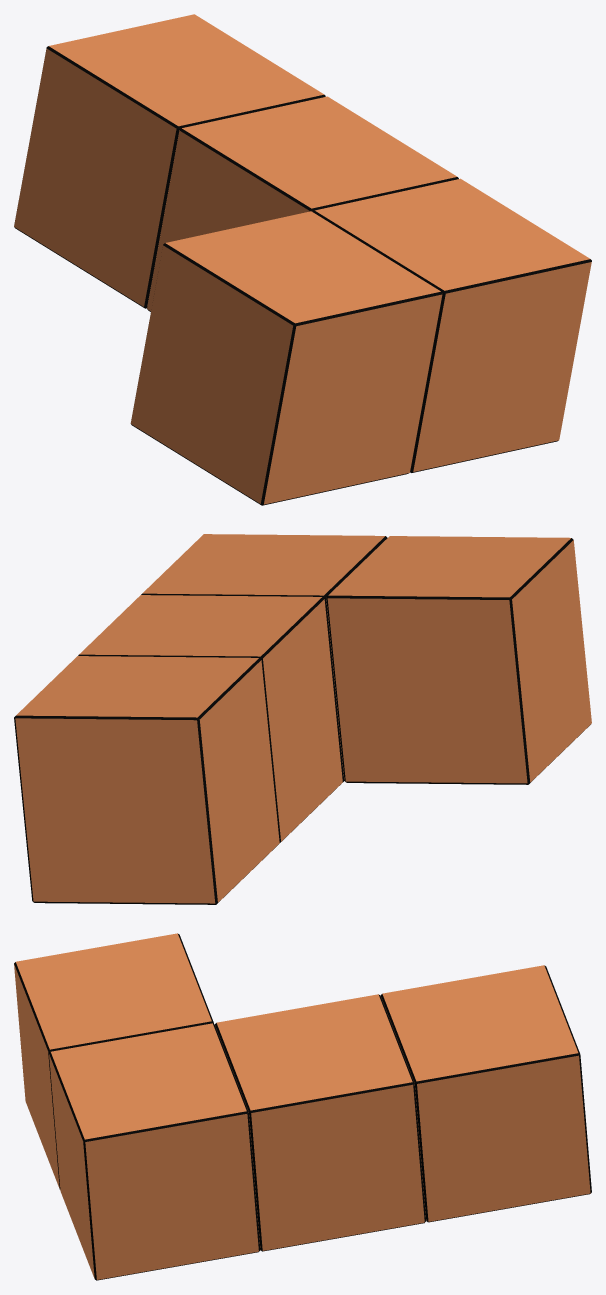
3 views of the same model, one above another, from view 1: azimuth 30°, elevation 25°; view 2: azimuth 150°, elevation 25°; view 3: azimuth 270°, elevation 25° (orthographic). The views are drawn at different scales.
Parts seen in each view (by area): view 1: Cube.008, Cube.011, Cube.009, Cube.010; view 2: Cube.008, Cube.011, Cube.010, Cube.009; view 3: Cube.009, Cube.011, Cube.010, Cube.008.
Part boxes in pixels (bbox=[...]): Cube.008: bbox=[130, 211, 442, 505]; Cube.011: bbox=[14, 14, 325, 308]; Cube.009: bbox=[313, 178, 591, 472]; Cube.010: bbox=[147, 96, 458, 311]; Cube.008: bbox=[326, 536, 591, 784]; Cube.011: bbox=[14, 656, 279, 904]; Cube.010: bbox=[78, 595, 342, 842]; Cube.009: bbox=[141, 534, 387, 782]; Cube.009: bbox=[49, 1023, 260, 1280]; Cube.011: bbox=[380, 965, 591, 1222]; Cube.010: bbox=[214, 994, 425, 1251]; Cube.008: bbox=[14, 933, 213, 1189].
Size of the model in its own units: 227 by 141 by 340.
